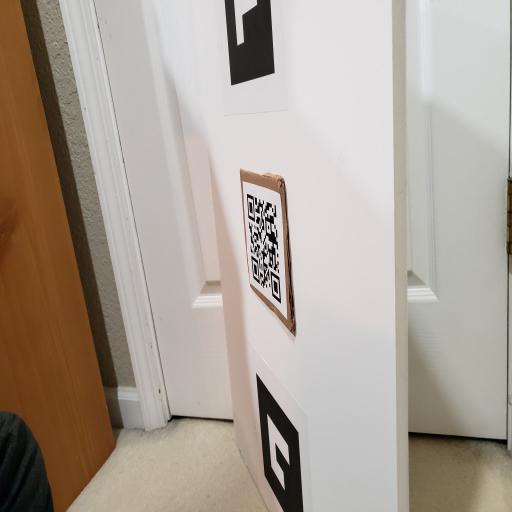qr_code: (247, 194, 282, 303)
